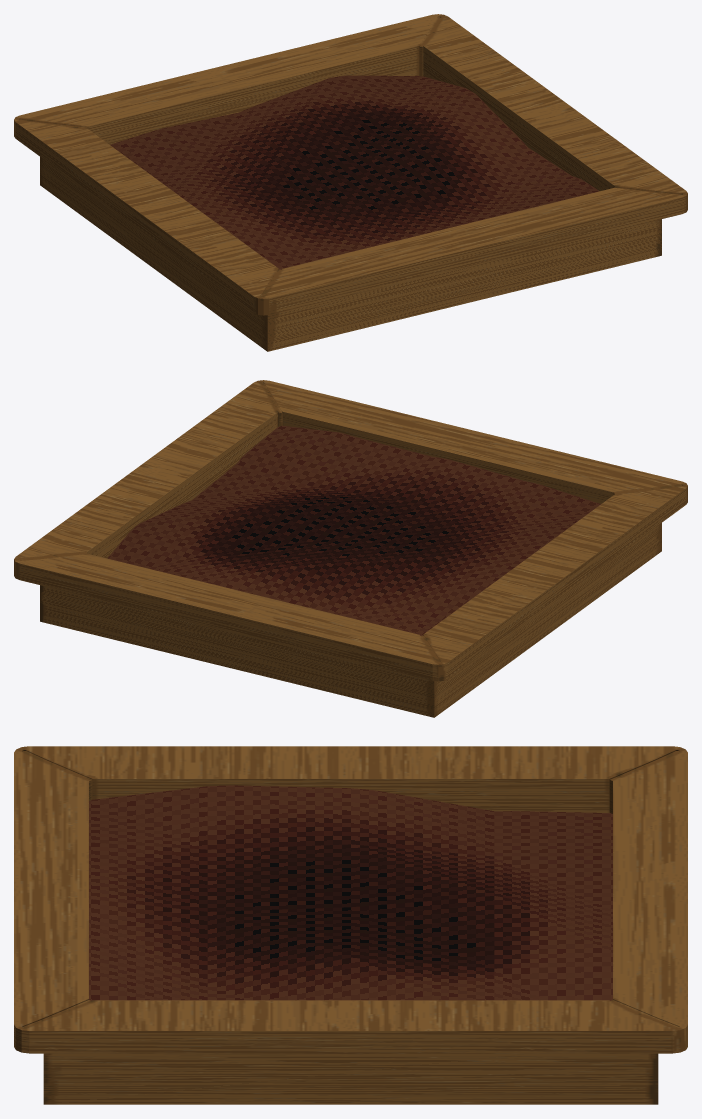
The model's file is SoilPlot.fbx.
3 views of the same model, one above another, from view 1: azimuth 30°, elevation 25°; view 2: azimuth 150°, elevation 25°; view 3: azimuth 270°, elevation 25° (orthographic). The views are drawn at different scales.
Visible parts, largest first — view 1: Cube, Plane; view 2: Cube, Plane; view 3: Cube, Plane.
Part boxes in pixels (x1=…): Cube: x1=14, y1=14, x2=687, y2=351; Plane: x1=110, y1=75, x2=599, y2=269; Cube: x1=14, y1=380, x2=687, y2=717; Plane: x1=107, y1=426, x2=600, y2=635; Cube: x1=14, y1=746, x2=687, y2=1104; Plane: x1=89, y1=785, x2=612, y2=1000.
Size of the model in its own units: 872 by 872 by 123.
Materials: 2 (2 with a texture image).
